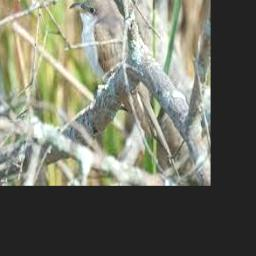Cuckoo: (69, 0, 166, 145)
